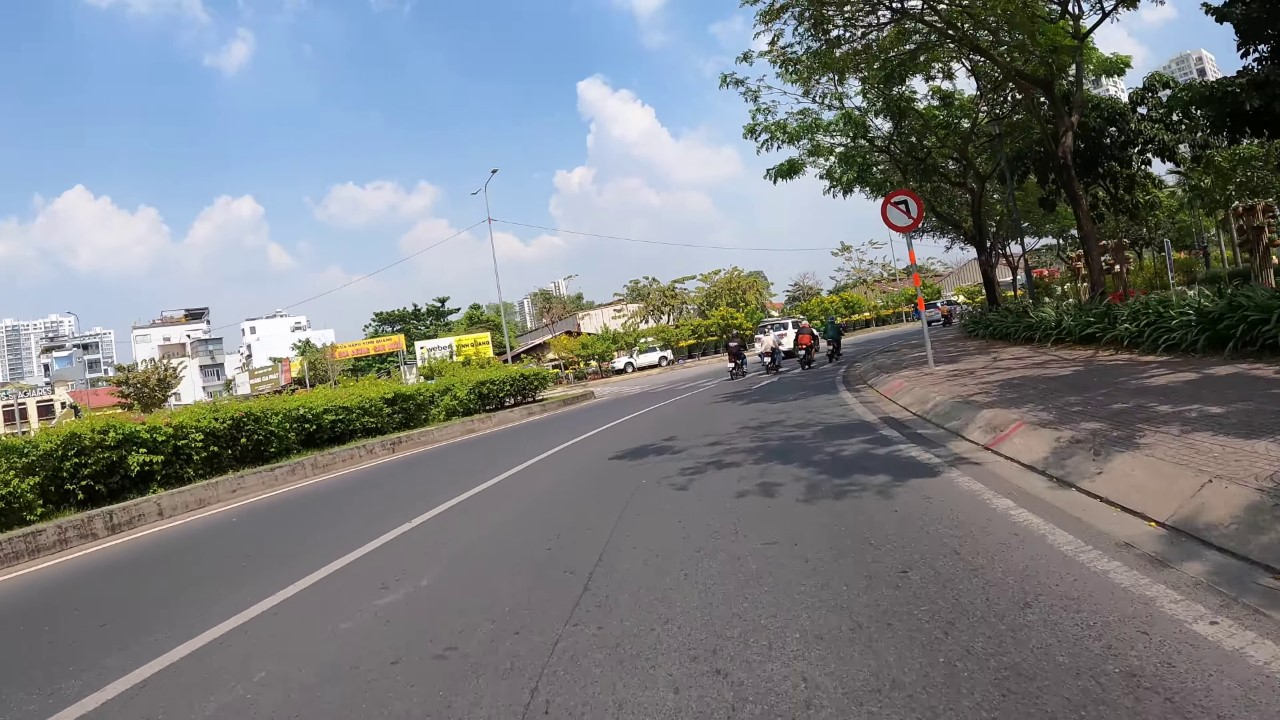cam_re_trai: (880, 187, 927, 235)
